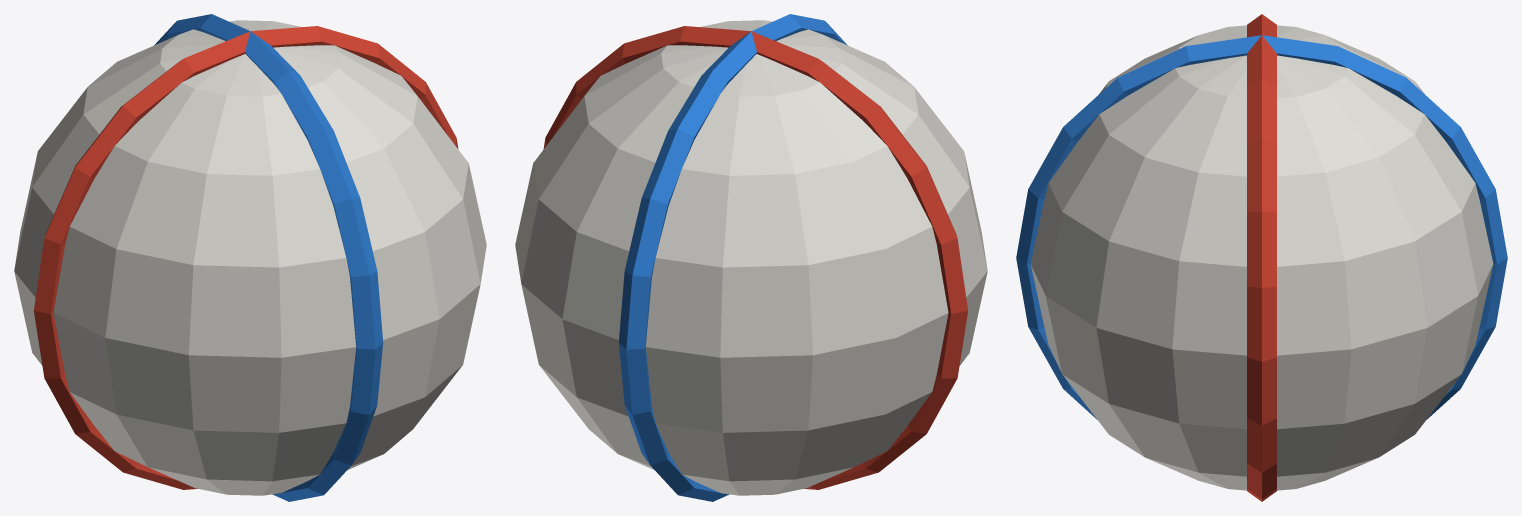
Rendered from ball-lod0.glb.
3 views of the same model, side by side, from view 1: azimuth 30°, elevation 25°; view 2: azimuth 150°, elevation 25°; view 3: azimuth 270°, elevation 25° (orthographic).
Parts seen in each view (by area): view 1: ball; view 2: ball; view 3: ball.
Boxes of the visible parts, box(x1,y1,x2,y2) form: ball: box(14, 14, 486, 501); ball: box(515, 14, 987, 501); ball: box(1016, 14, 1507, 501).
Bounding box in the file's own units: 0.63 × 0.63 × 0.63.
